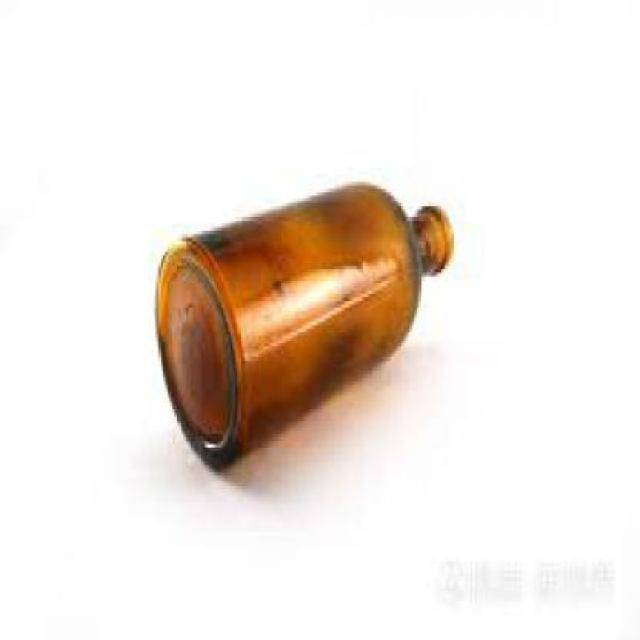kaca: (154, 182, 451, 469)
